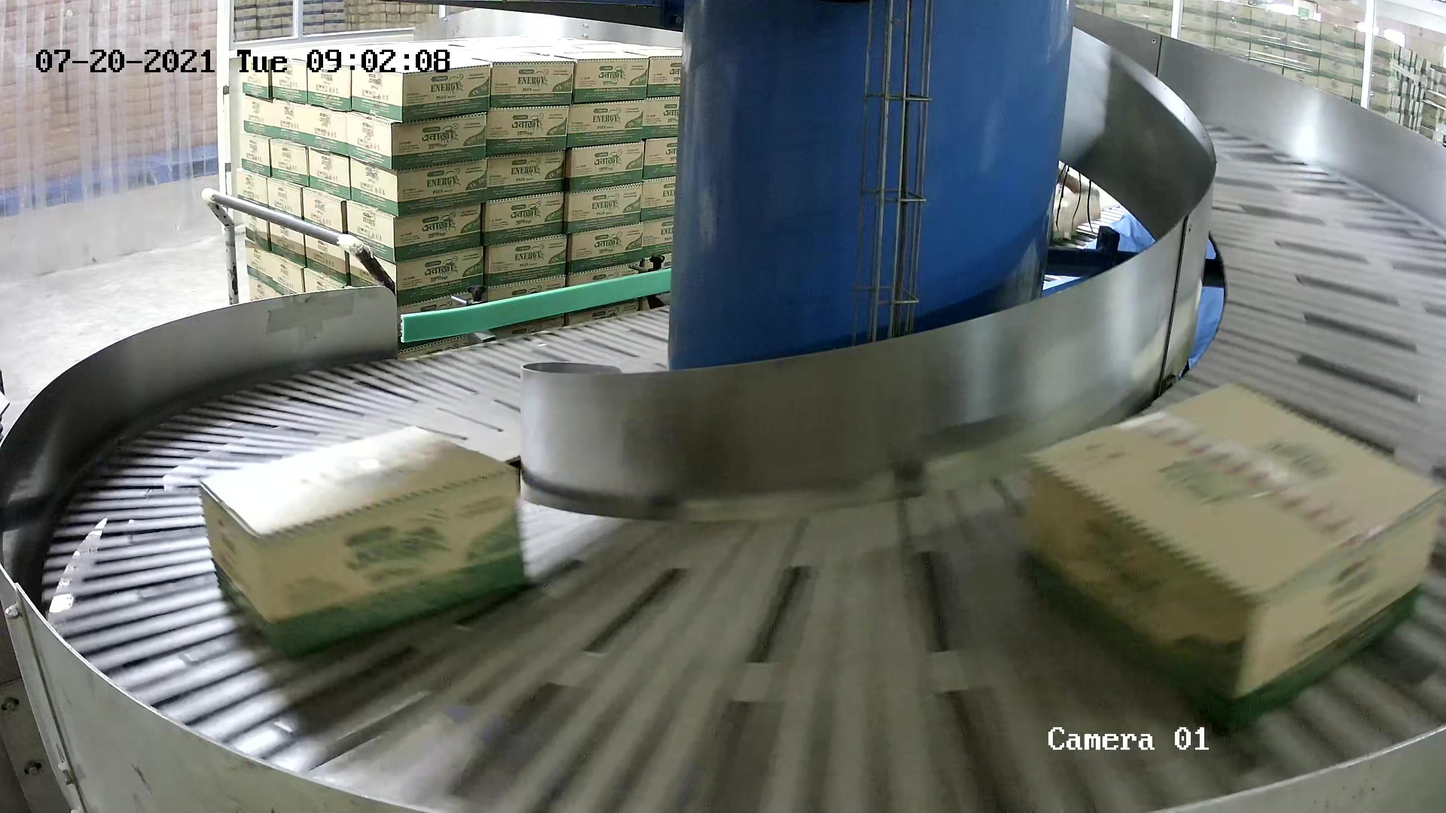Box: (1020, 375, 1446, 730), (196, 422, 529, 657)
